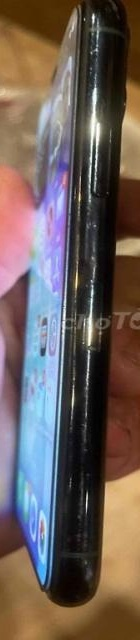scratch: (66, 273, 123, 455), (58, 471, 112, 572), (81, 34, 127, 117), (68, 194, 116, 267), (69, 5, 103, 26), (103, 124, 124, 146)
